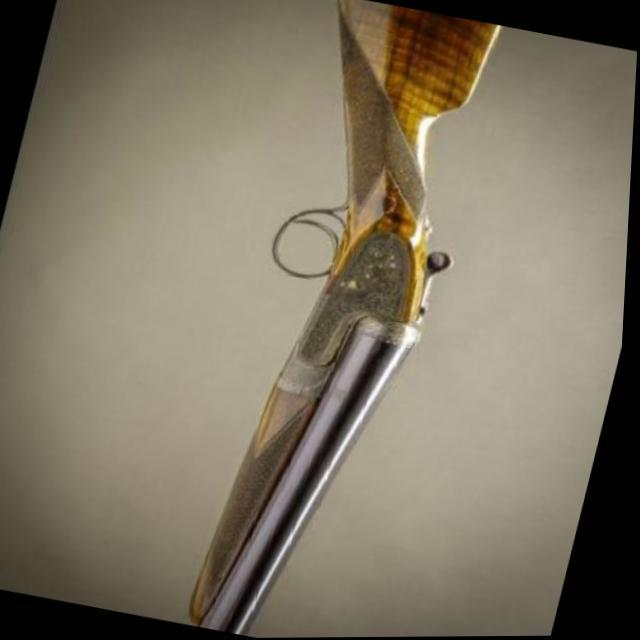weapon: (173, 0, 512, 639)
